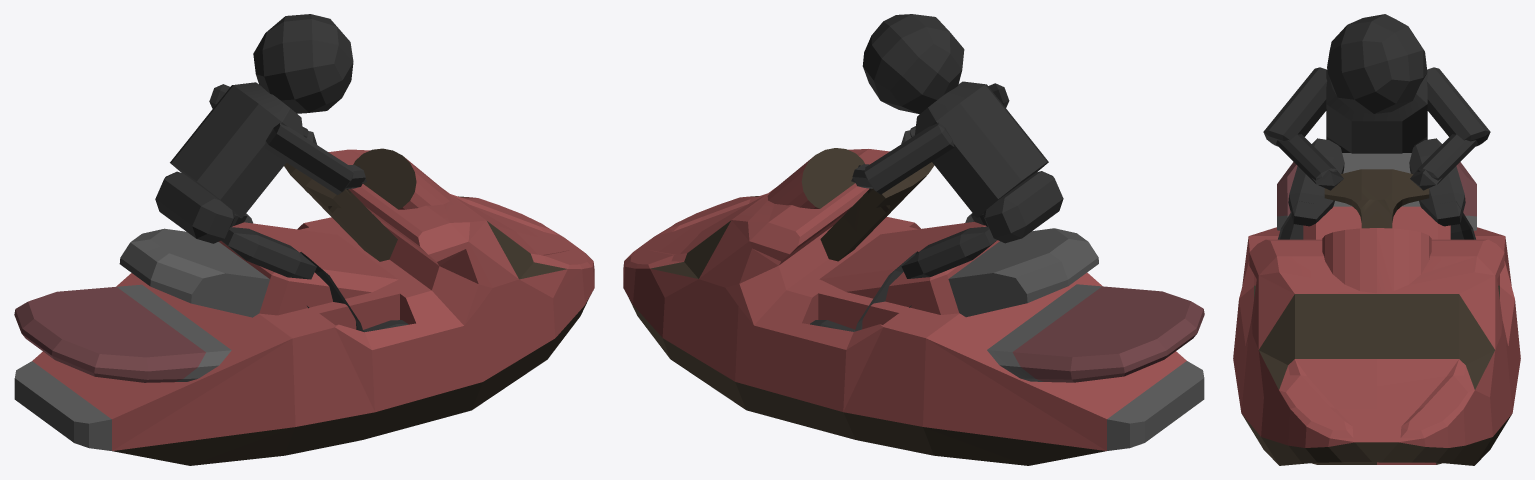
Rendered from Enemy.fbx.
3 renders of one model, left to right at view 1: azimuth 30°, elevation 25°; view 2: azimuth 150°, elevation 25°; view 3: azimuth 270°, elevation 25°, orthographic.
Parts seen in each view (by area): view 1: polySurface19, pCube5, pSphere3, pCube4, pCube6, pCube3, pCube2; view 2: polySurface19, pCube5, pSphere3, pCube4, pCube6, pCube3, pCube2; view 3: polySurface19, pSphere3, pCube6, pCube5, pCube3, pCube7, pCube2, pSphere2.
Part boxes in pixels (x1,y1,x2,y2): polySurface19: (14, 148, 594, 465); pCube5: (170, 82, 303, 218); pSphere3: (253, 14, 353, 113); pCube4: (155, 171, 235, 243); pCube6: (209, 84, 353, 194); pCube3: (221, 214, 316, 279); pCube2: (244, 213, 363, 331); polySurface19: (623, 148, 1204, 465); pCube5: (915, 81, 1048, 217); pSphere3: (862, 14, 964, 114); pCube4: (983, 171, 1063, 243); pCube6: (864, 83, 1009, 194); pCube3: (901, 213, 997, 278); pCube2: (855, 213, 973, 331); polySurface19: (1233, 153, 1520, 465); pSphere3: (1327, 14, 1427, 113); pCube6: (1263, 67, 1490, 146); pCube5: (1326, 70, 1427, 153); pCube3: (1288, 138, 1465, 226); pCube7: (1276, 134, 1477, 184); pCube2: (1278, 201, 1475, 239); pSphere2: (1312, 170, 1441, 190).
Size of the model in its own units: 11.54 by 8.06 by 5.36.
